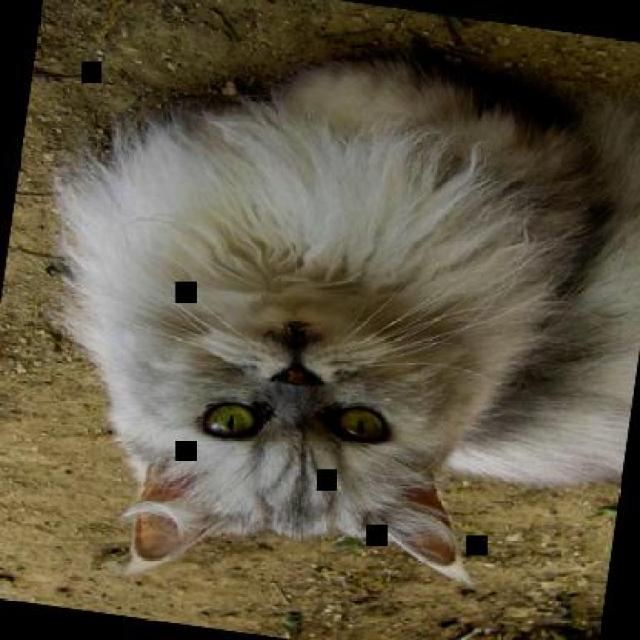cat: (16, 11, 638, 632)
